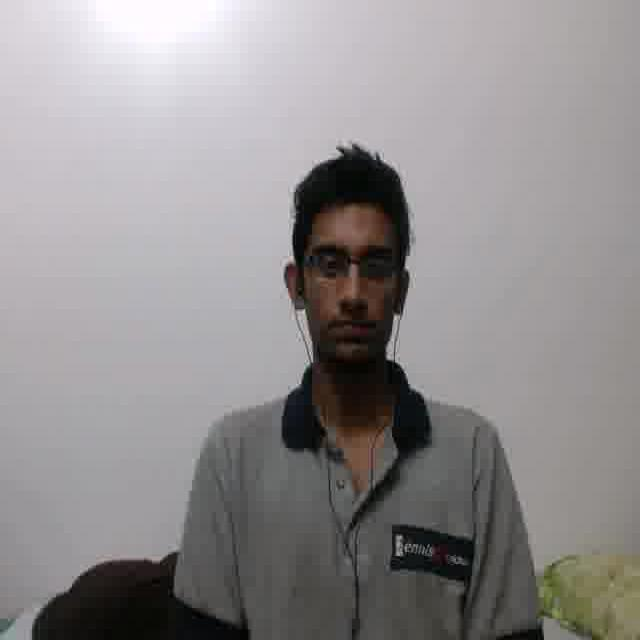Engaged: (304, 201, 398, 367)
